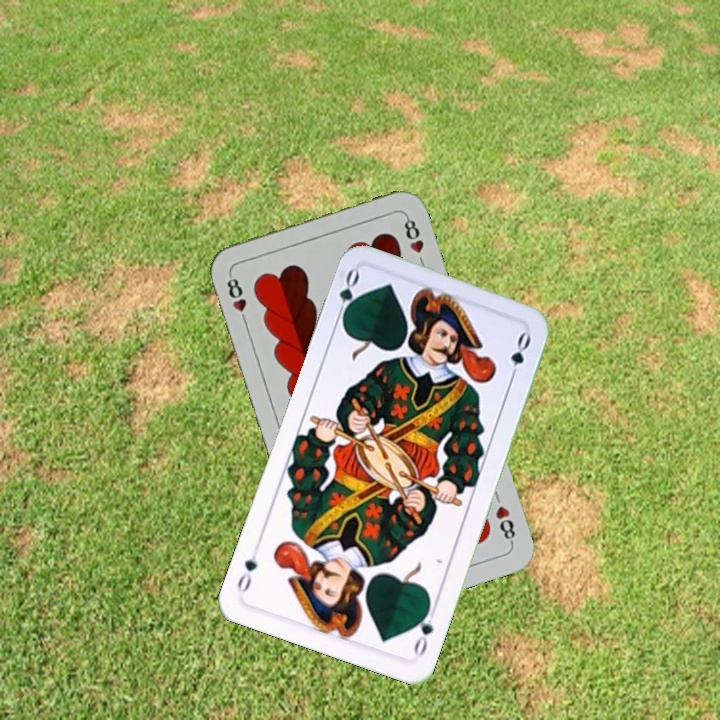GO: (331, 266, 363, 325), (409, 601, 436, 659)
H8: (222, 270, 251, 328), (491, 501, 518, 546)
